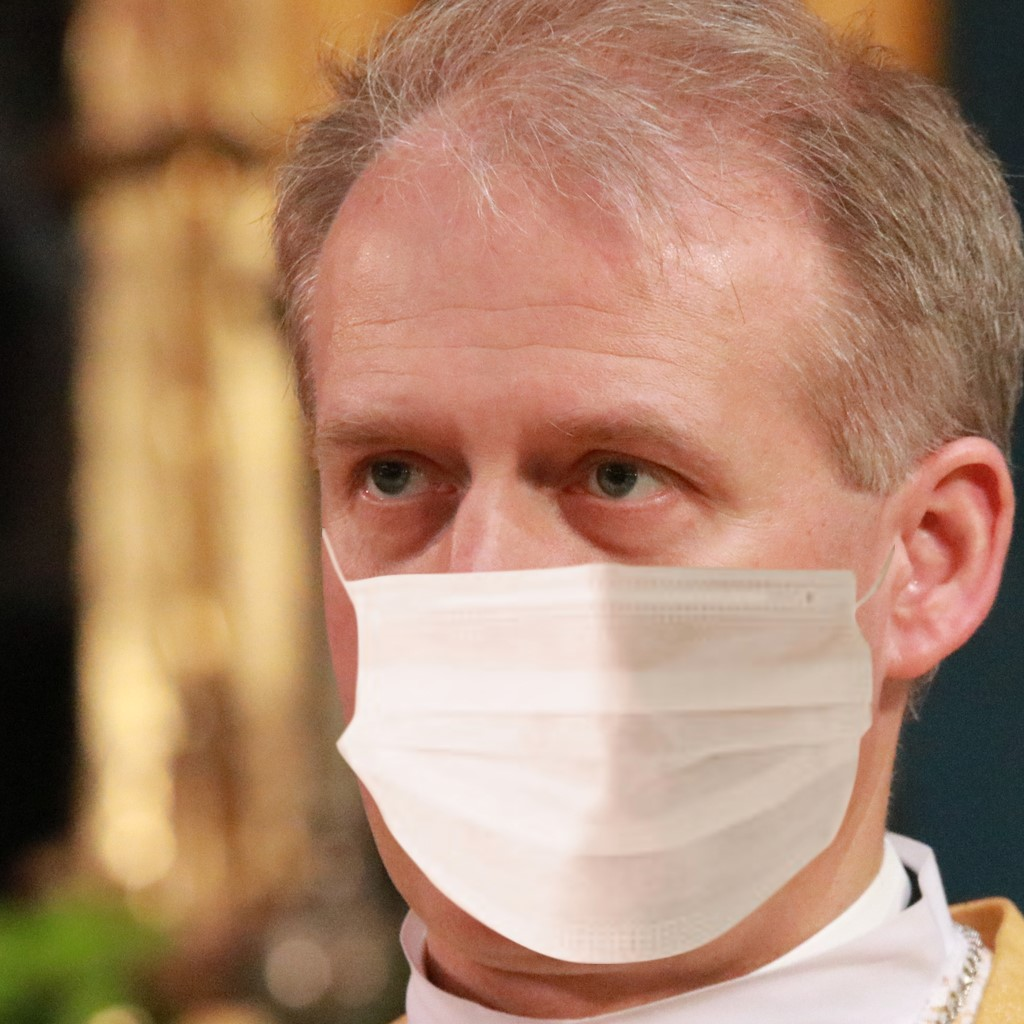con_mascara: (296, 95, 908, 936)
